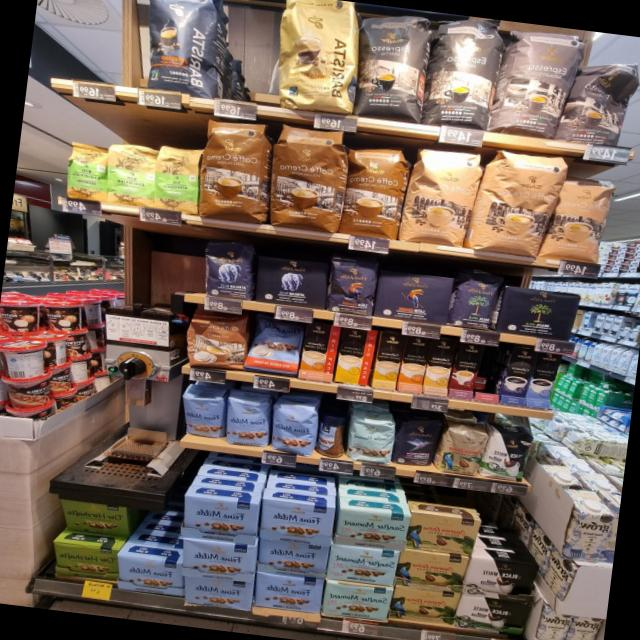AB Bohne: (200, 238, 256, 302)
AB Gemahlen: (249, 253, 330, 310)
Athiopien Bohne: (60, 139, 109, 202)
Athiopien Gemahlen: (102, 140, 159, 211), (150, 143, 203, 219)
BM Bohne: (446, 266, 504, 332)
BM Gemahlen: (495, 284, 582, 342)
BW Bohne: (477, 428, 535, 484)
BW Gemahlen: (451, 590, 535, 637), (460, 556, 540, 599)
Barista CB: (267, 0, 366, 119)
Barista Espresso: (135, 0, 228, 98)
C Fino Bohne: (390, 419, 445, 468)
CC Mild: (463, 149, 576, 258), (395, 144, 489, 250), (537, 171, 615, 267)
CC Vollmundig: (180, 306, 253, 374)
CC Vollmundig 36 Pads: (262, 122, 352, 236), (194, 115, 278, 226), (336, 143, 414, 242)
Colombia BB Bohne: (432, 424, 492, 478)
Colombia BB Gemahlen: (395, 547, 471, 592), (404, 512, 481, 556), (387, 584, 462, 626)
Empty Shelf: (470, 346, 507, 403)
Espresso Aromatisch: (486, 24, 588, 144)
Espresso Kraftig: (420, 12, 508, 132), (351, 9, 436, 125)
FM 36 Pads: (242, 318, 302, 380)
FM Bohne: (267, 397, 318, 457), (222, 392, 273, 450), (180, 392, 225, 439)
FM Gemahlen: (178, 494, 261, 546), (256, 496, 338, 544), (180, 536, 259, 584), (251, 568, 326, 613), (255, 534, 331, 576), (183, 572, 256, 613), (115, 553, 186, 595)
FM Instant: (312, 405, 352, 459)
Herzhatfe Mundig: (50, 540, 125, 582), (58, 499, 132, 538)
LG Bohne: (322, 255, 380, 318)
LG Gemahlen: (372, 268, 456, 327)
SM Bohne: (346, 413, 399, 467)
SM Gemahlen: (324, 540, 401, 588), (318, 578, 394, 625), (331, 505, 411, 549)
Simo CCMild: (332, 326, 379, 387)
Simo CCMild bigpack: (368, 330, 404, 392)
Simo CCVollmundig: (296, 322, 342, 382)
Simo CCVollmundig bigpack: (394, 334, 433, 395)
Simo Decaff: (420, 337, 459, 398)
Simo Es Kraft: (445, 342, 481, 401)
Simo Kaffee Kraft: (496, 344, 538, 407)
Simo Kaffee Mild: (524, 353, 564, 411)
